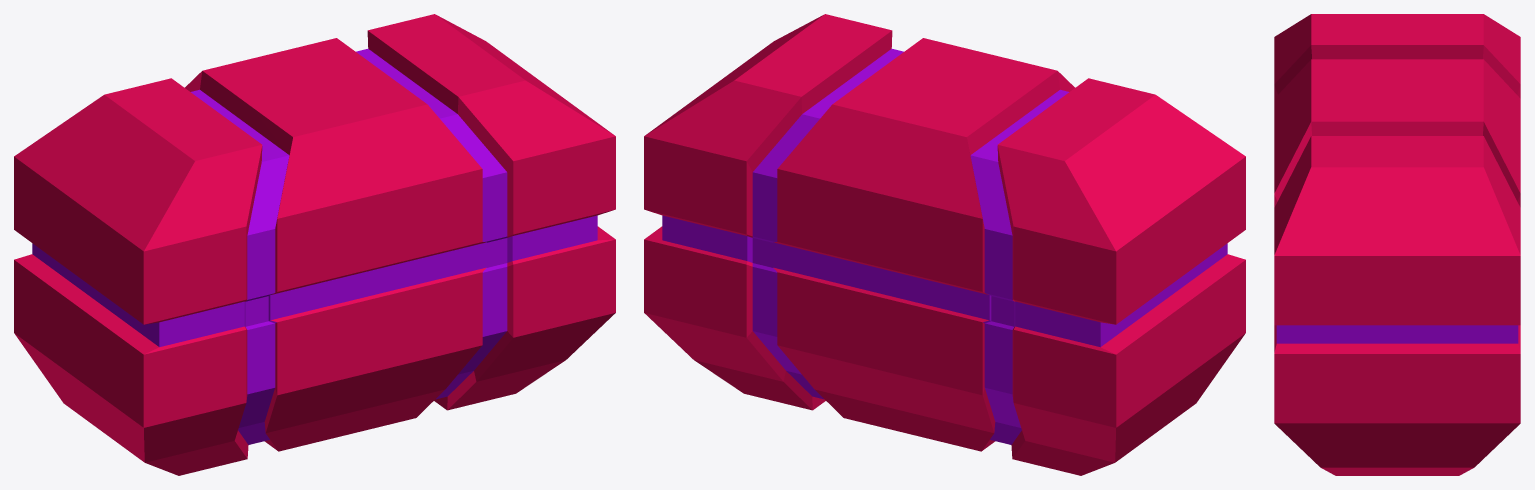
Rendered from SM_ATM.fbx.
3 renders of one model, left to right at view 1: azimuth 30°, elevation 25°; view 2: azimuth 150°, elevation 25°; view 3: azimuth 270°, elevation 25°, orthographic. The views are drawn at different scales.
Parts seen in each view (by area): view 1: ATM; view 2: ATM; view 3: ATM.
Part boxes in pixels (box(x1,y1,x2,y2)): ATM: box(14, 14, 615, 475); ATM: box(644, 14, 1245, 475); ATM: box(1274, 14, 1520, 475).
Size of the model in its own units: 840 by 550 by 400.
